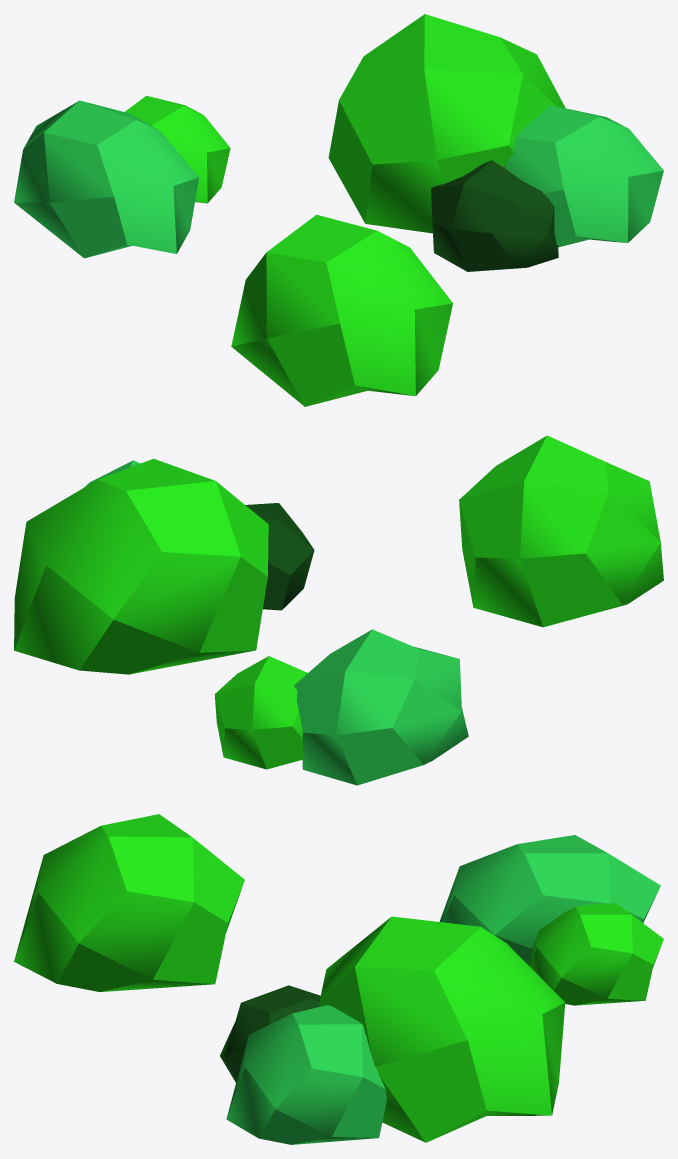
The model's file is WildBush_02.FBX.
3 views of the same model, one above another, from view 1: azimuth 30°, elevation 25°; view 2: azimuth 150°, elevation 25°; view 3: azimuth 270°, elevation 25° (orthographic).
Visible parts, largest first — view 1: WildBush_02; view 2: WildBush_02; view 3: WildBush_02.
Boxes of the visible parts, bbox=[...] form: WildBush_02: bbox=[14, 14, 663, 406]; WildBush_02: bbox=[14, 435, 663, 785]; WildBush_02: bbox=[14, 814, 663, 1144].
Bounding box in the file's own units: 8.96 × 2.8 × 10.22.
